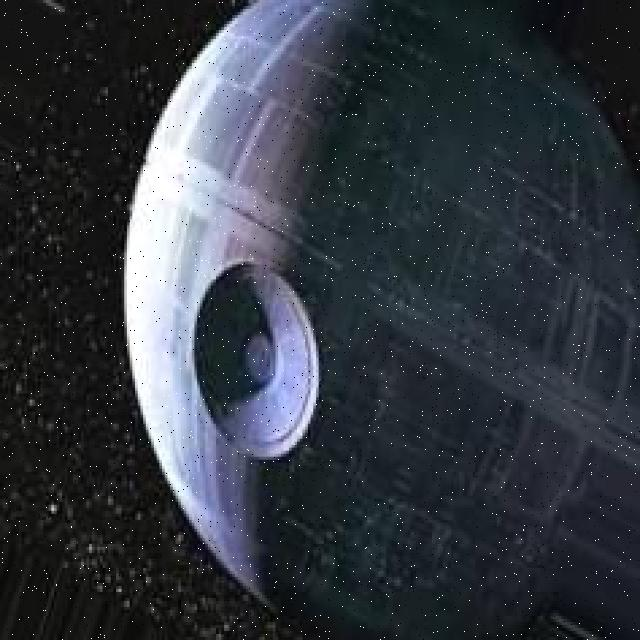deathstar: (126, 1, 640, 638)
